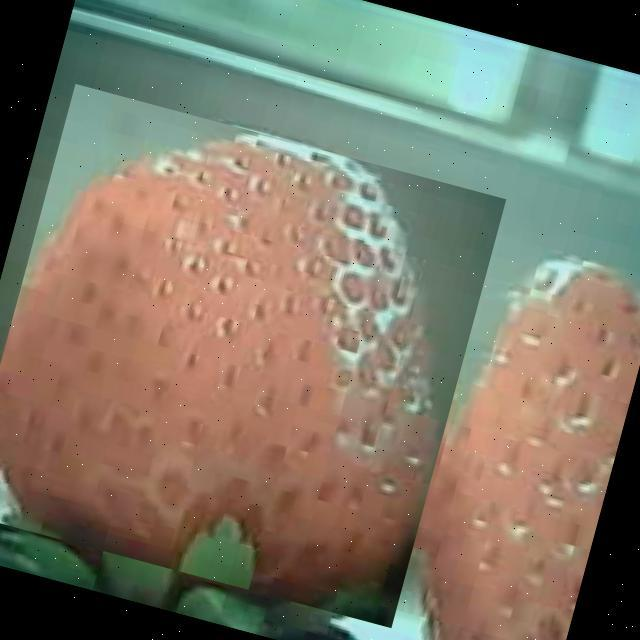ripe: (0, 83, 506, 627), (385, 237, 640, 640)
